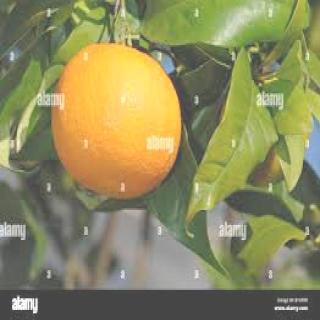orange: (38, 38, 193, 208)
